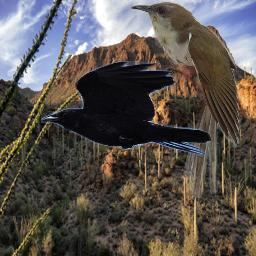Crow: (41, 61, 212, 157)
Cuckoo: (130, 0, 239, 198)
